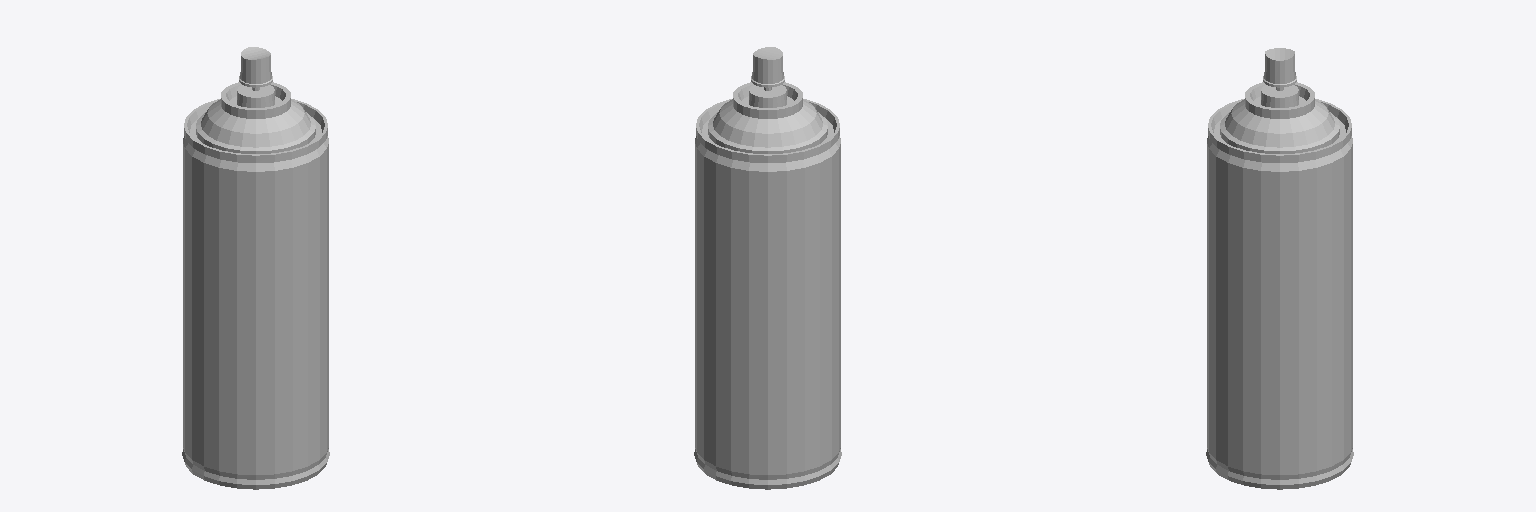
Rendered from PHL_Spraycan_MDL.obj.
The picture shows the model from 3 angles: view 1: azimuth 30°, elevation 25°; view 2: azimuth 150°, elevation 25°; view 3: azimuth 270°, elevation 25°; orthographic projection.
Visible parts, largest first — view 1: spraycan_spraycan_1.001; view 2: spraycan_spraycan_1.001; view 3: spraycan_spraycan_1.001.
Boxes of the visible parts, x1=… form: spraycan_spraycan_1.001: x1=182, y1=47, x2=329, y2=489; spraycan_spraycan_1.001: x1=694, y1=47, x2=841, y2=489; spraycan_spraycan_1.001: x1=1206, y1=48, x2=1353, y2=489.
Size of the model in its own units: 0.1036 by 0.3137 by 0.1036.